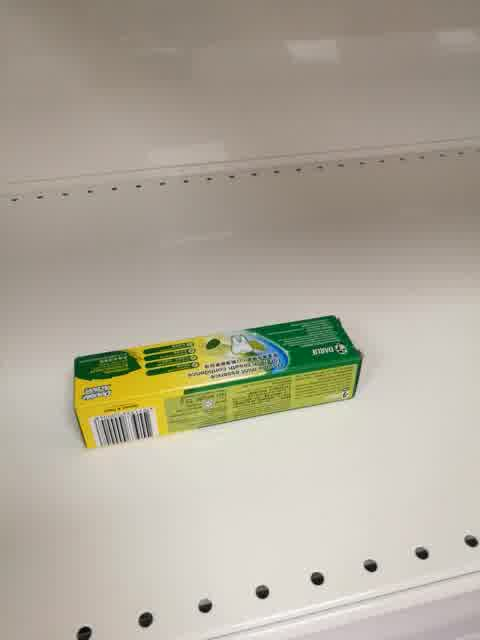toothpaste: (70, 315, 364, 451)
